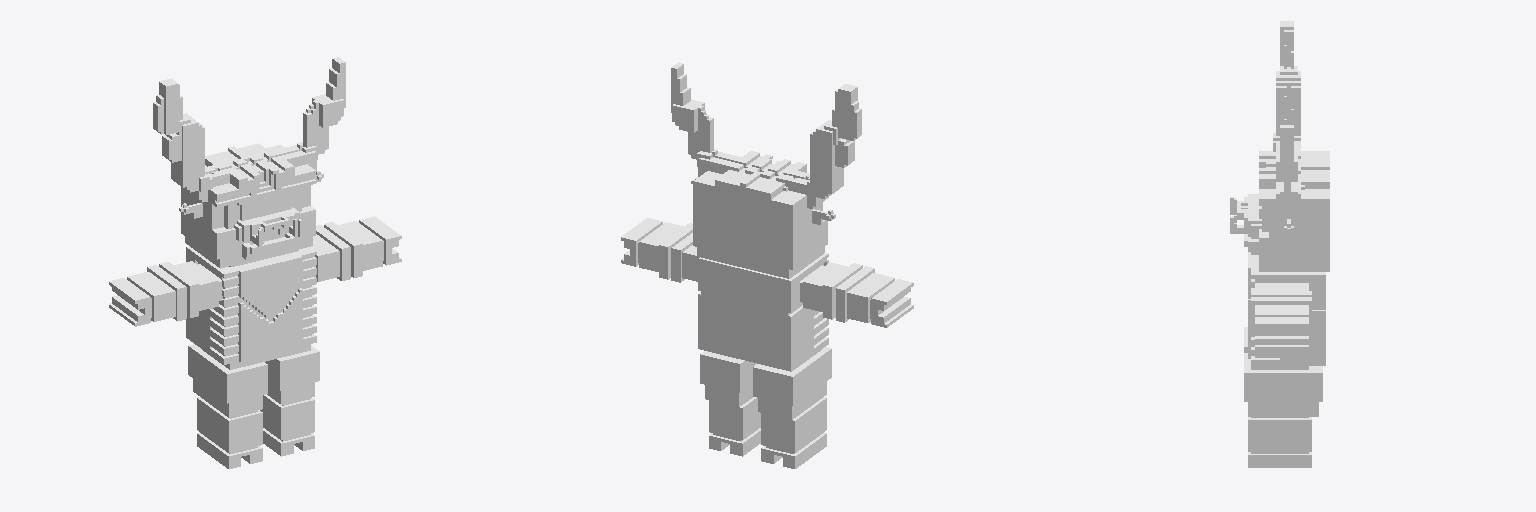
File: rolling.obj
3 renders of one model, left to right at view 1: azimuth 30°, elevation 25°; view 2: azimuth 150°, elevation 25°; view 3: azimuth 270°, elevation 25°, orthographic.
Parts seen in each view (by area): view 1: rolling; view 2: rolling; view 3: rolling.
Part boxes in pixels (x1,y1,x2,y2): rolling: (109, 57, 401, 468); rolling: (621, 62, 913, 468); rolling: (1230, 21, 1329, 467).
Size of the model in its own units: 86 by 118 by 28.